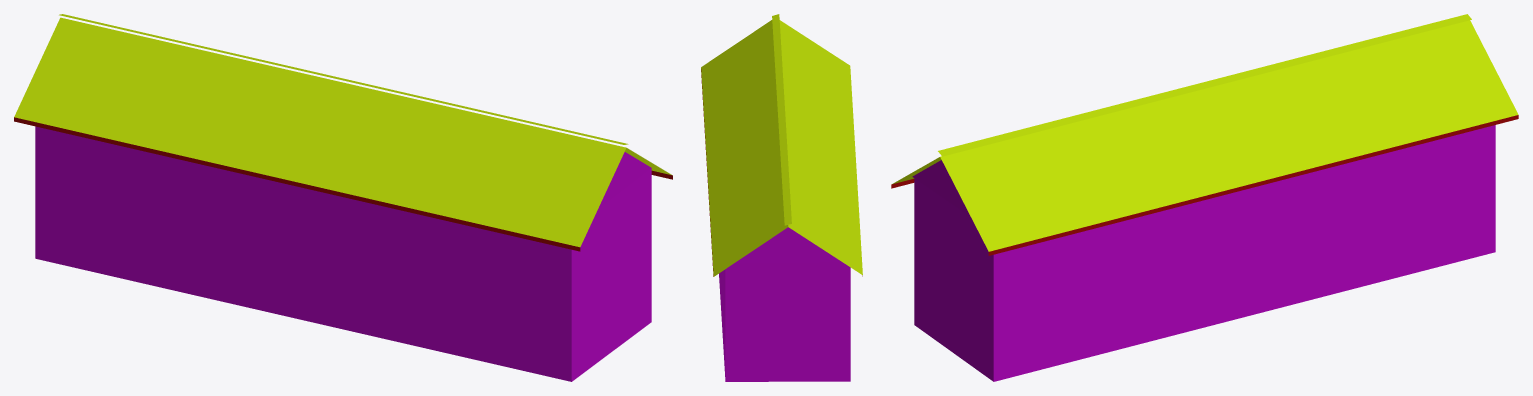
File: niv_52.glb
3 views of the same model, side by side, from view 1: azimuth 30°, elevation 25°; view 2: azimuth 150°, elevation 25°; view 3: azimuth 270°, elevation 25° (orthographic). The views are drawn at different scales.
Parts seen in each view (by area): view 1: niv_52; view 2: niv_52; view 3: niv_52.
Boxes of the visible parts, bbox=[...] form: niv_52: bbox=[14, 14, 672, 381]; niv_52: bbox=[701, 14, 862, 381]; niv_52: bbox=[891, 14, 1518, 381].
Bounding box in the file's own units: 12.77 × 5.96 × 16.57.
